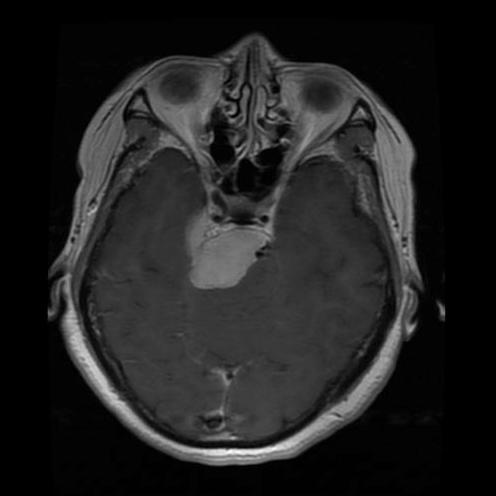Tumour-Meningioma: (178, 201, 314, 344)
